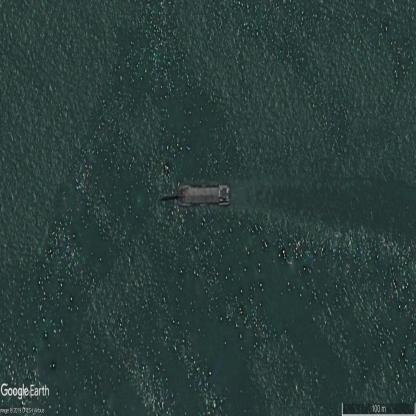ship: (158, 182, 232, 210)
